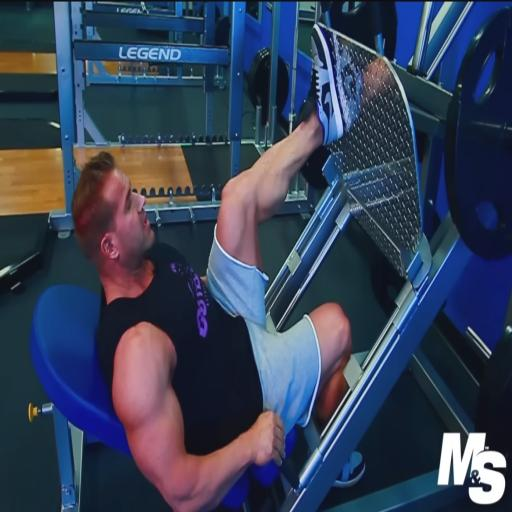Leg Press: (54, 28, 504, 478)
